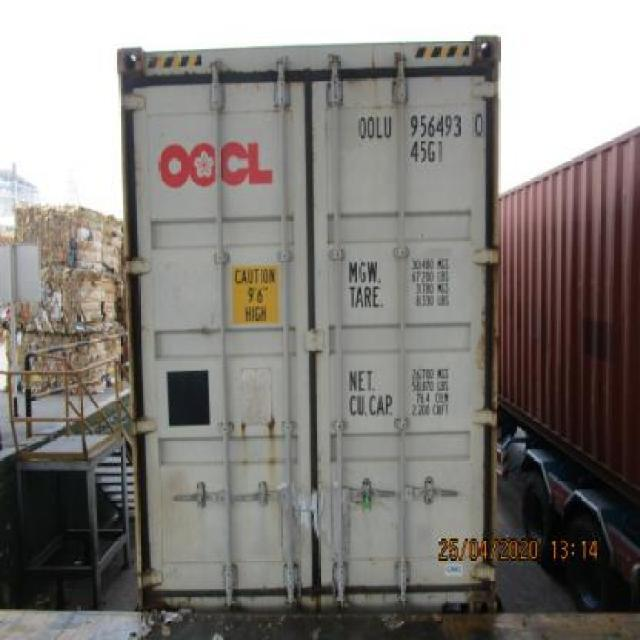ISO: (410, 139, 446, 163)
container_number: (355, 112, 480, 138)
